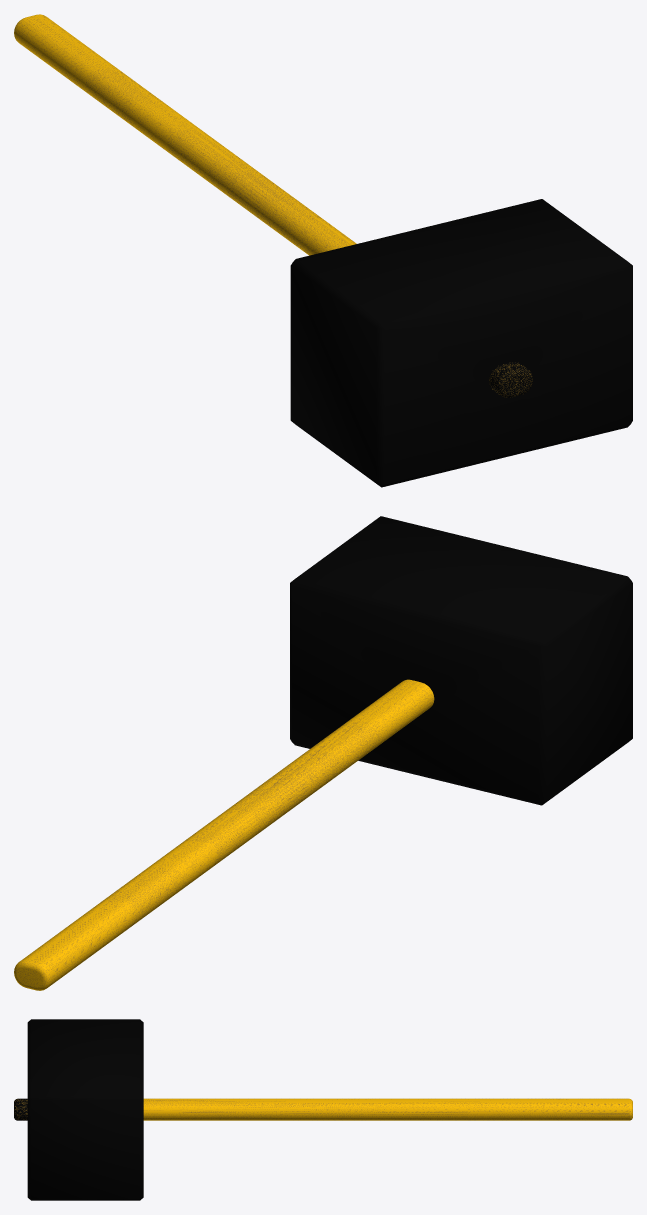
The model's file is mallet_01_origin_gt_1.dae.
3 renders of one model, top to bottom at view 1: azimuth 30°, elevation 25°; view 2: azimuth 150°, elevation 25°; view 3: azimuth 270°, elevation 25°, orthographic. The views are drawn at different scales.
Visible parts, largest first — view 1: Hammer (×3); view 2: Hammer (×2); view 3: Hammer (×3).
Part boxes in pixels (x1,y1,x2,y2): Hammer (×3): (14, 14, 632, 487); Hammer (×2): (14, 516, 632, 990); Hammer (×3): (14, 1019, 632, 1200).
Size of the model in its own units: 3.25 by 10.69 by 2.01.
